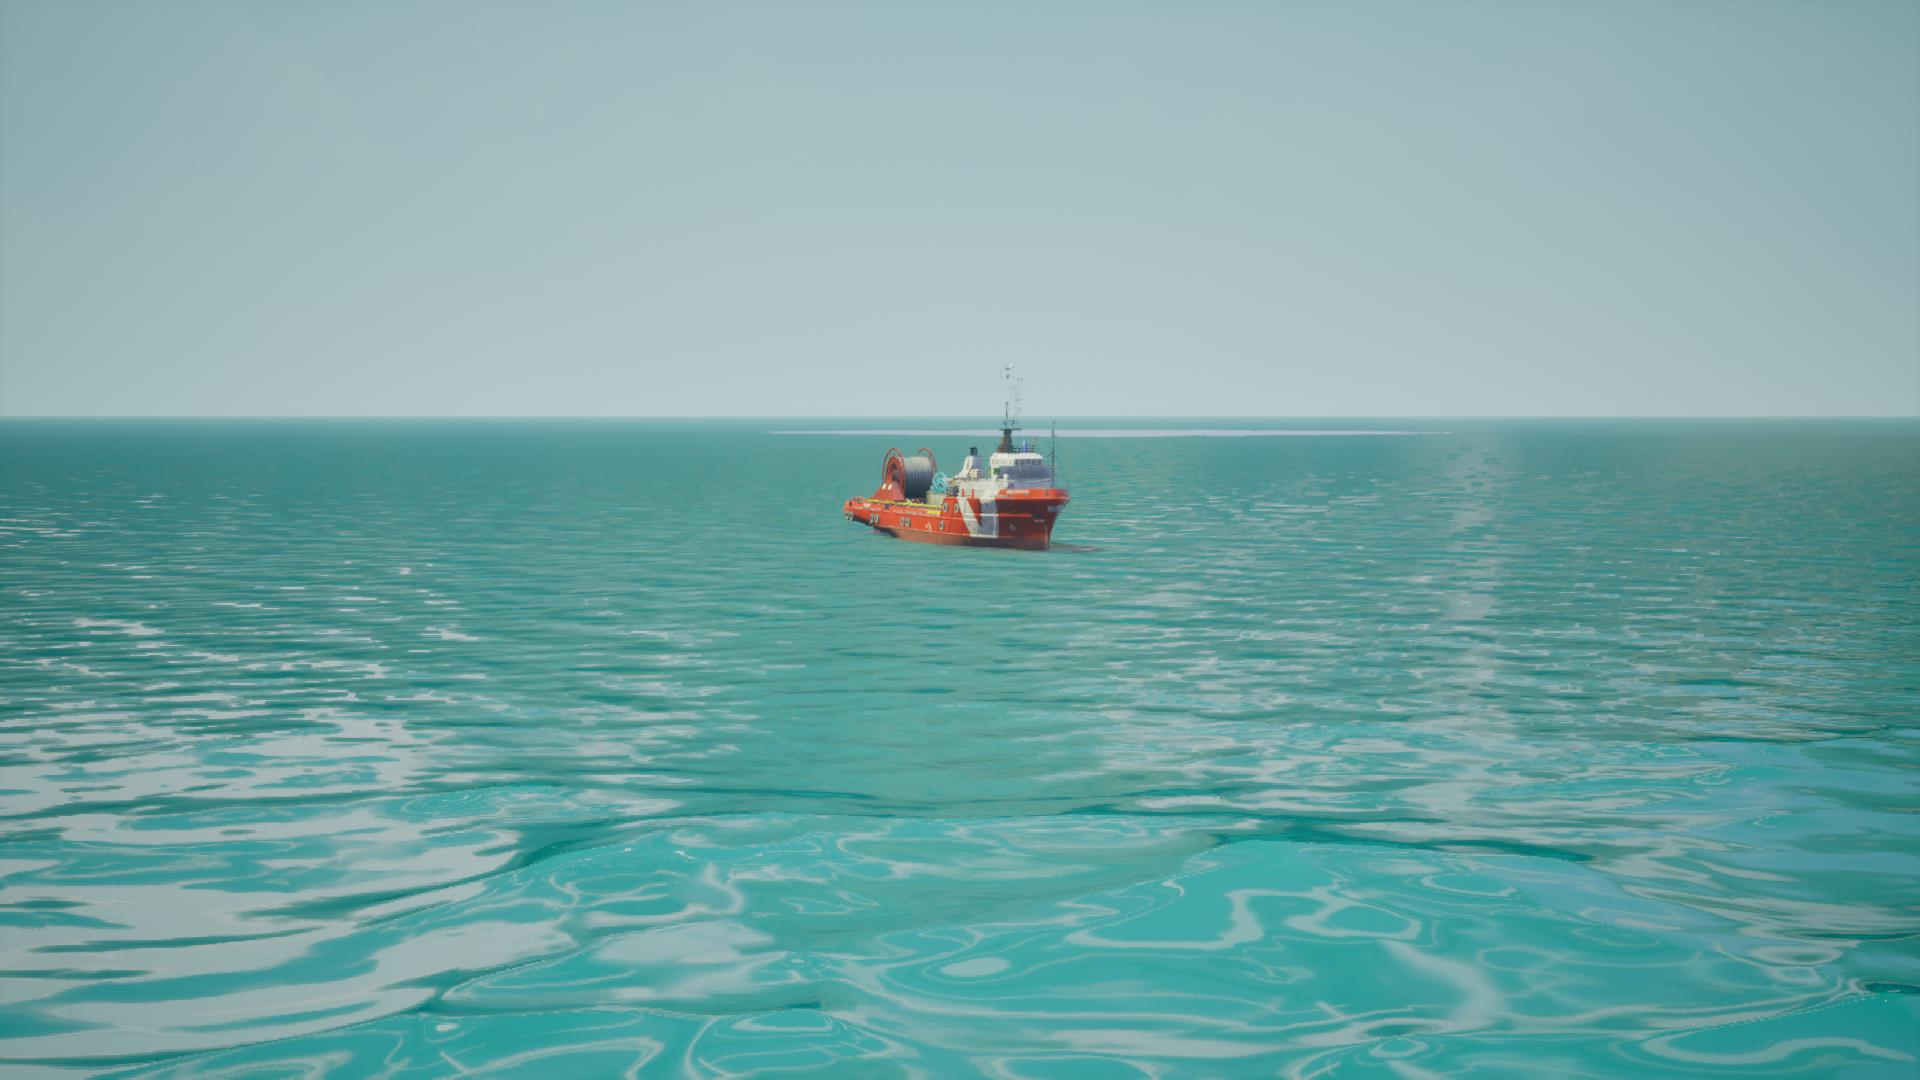Tug Boat: (852, 364, 1069, 554)
